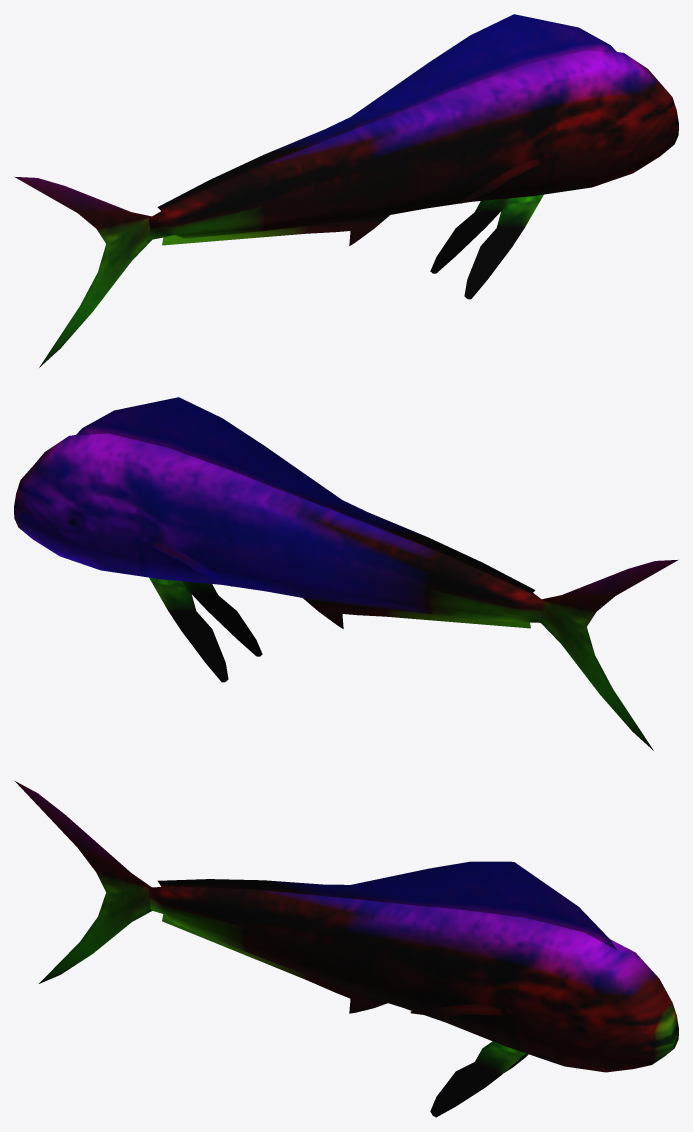
Rendered from mahi_mahi.glb.
3 renders of one model, top to bottom at view 1: azimuth 30°, elevation 25°; view 2: azimuth 150°, elevation 25°; view 3: azimuth 330°, elevation 25°, orthographic.
Visible parts, largest first — view 1: MahiMahi; view 2: MahiMahi; view 3: MahiMahi.
Part boxes in pixels (x1,y1,x2,y2): MahiMahi: [14, 14, 678, 367]; MahiMahi: [14, 397, 678, 750]; MahiMahi: [14, 780, 678, 1117].
Bounding box in the file's own units: 1 × 0.3735 × 0.1315.
Materials: 1 (1 with a texture image).
